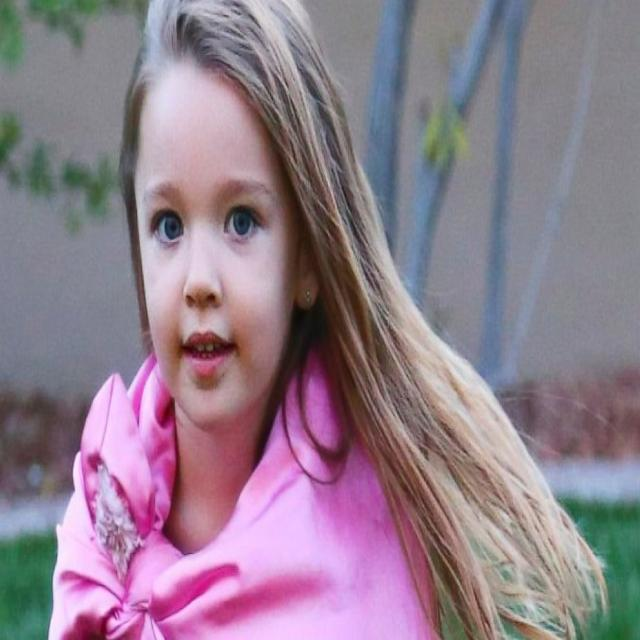mobile_phonerotation: (46, 1, 609, 637)
